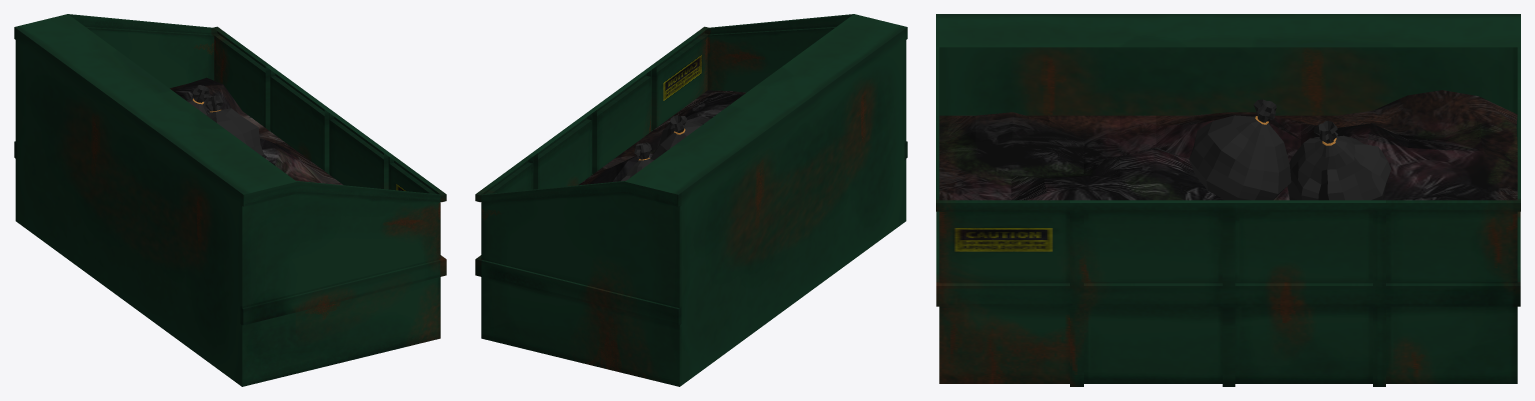
File: LargeBin.fbx
3 views of the same model, side by side, from view 1: azimuth 30°, elevation 25°; view 2: azimuth 150°, elevation 25°; view 3: azimuth 270°, elevation 25° (orthographic). The views are drawn at different scales.
Visible parts, largest first — view 1: Cube, Plane, Trash1, Trash2; view 2: Cube, Plane, Trash1, Trash2; view 3: Cube, Plane, Trash1, Trash2.
Part boxes in pixels (x1=…): Cube: x1=14, y1=14, x2=446, y2=386; Plane: x1=170, y1=77, x2=343, y2=185; Trash1: x1=205, y1=95, x2=263, y2=156; Trash2: x1=186, y1=85, x2=209, y2=115; Cube: x1=475, y1=14, x2=907, y2=386; Plane: x1=578, y1=90, x2=745, y2=185; Trash1: x1=650, y1=115, x2=702, y2=159; Trash2: x1=621, y1=142, x2=653, y2=181; Cube: x1=936, y1=14, x2=1520, y2=386; Plane: x1=939, y1=90, x2=1517, y2=200; Trash1: x1=1189, y1=99, x2=1291, y2=200; Trash2: x1=1287, y1=120, x2=1391, y2=200.
Bounding box in the file's own units: 76.74 × 69.73 × 150.
Materials: 6 (2 with a texture image).
